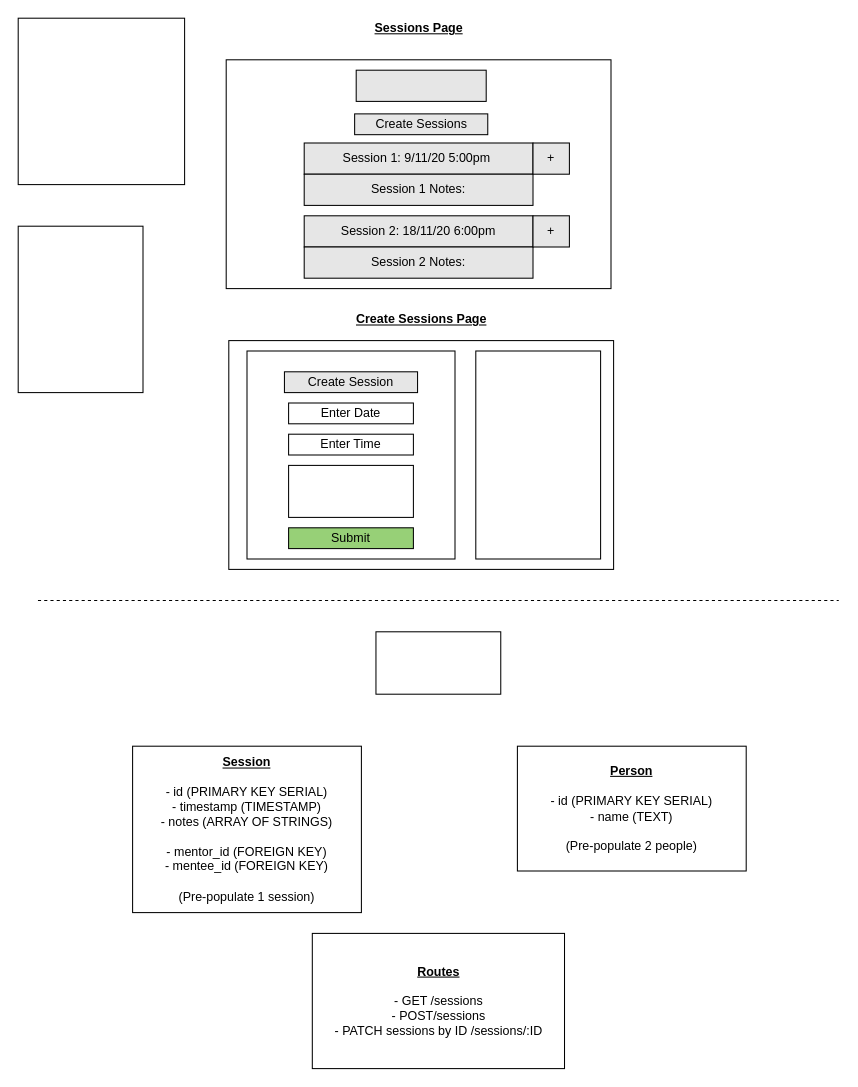
This 858x1087 diagram has some shape labels left out. The centre of each missing label's shape, as x and y in pixels:
Add Agenda/Note: (x=350, y=490)
All the Weeks: (x=538, y=454)
Database: (x=438, y=662)
Resources - Session Create + Read + Update: (x=101, y=101)
Sessions: (x=420, y=85)
Sessions - Date - Time - Agenda - Mentor ID -Mentee ID: (x=80, y=309)
